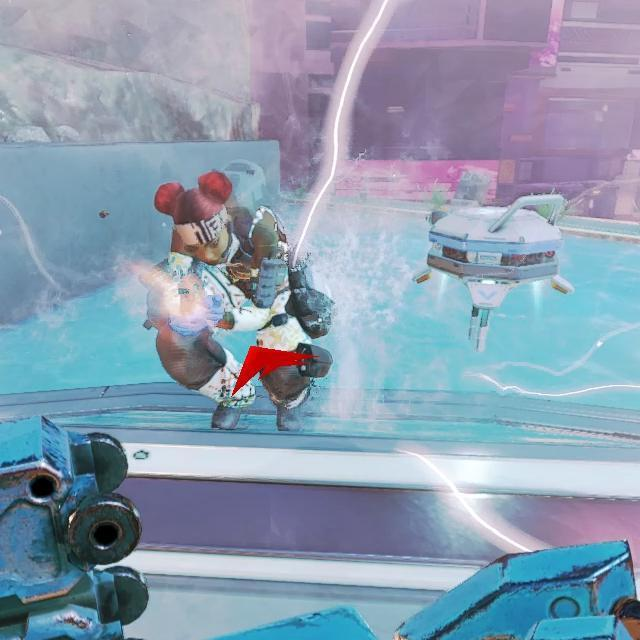avatar: (147, 166, 335, 435)
